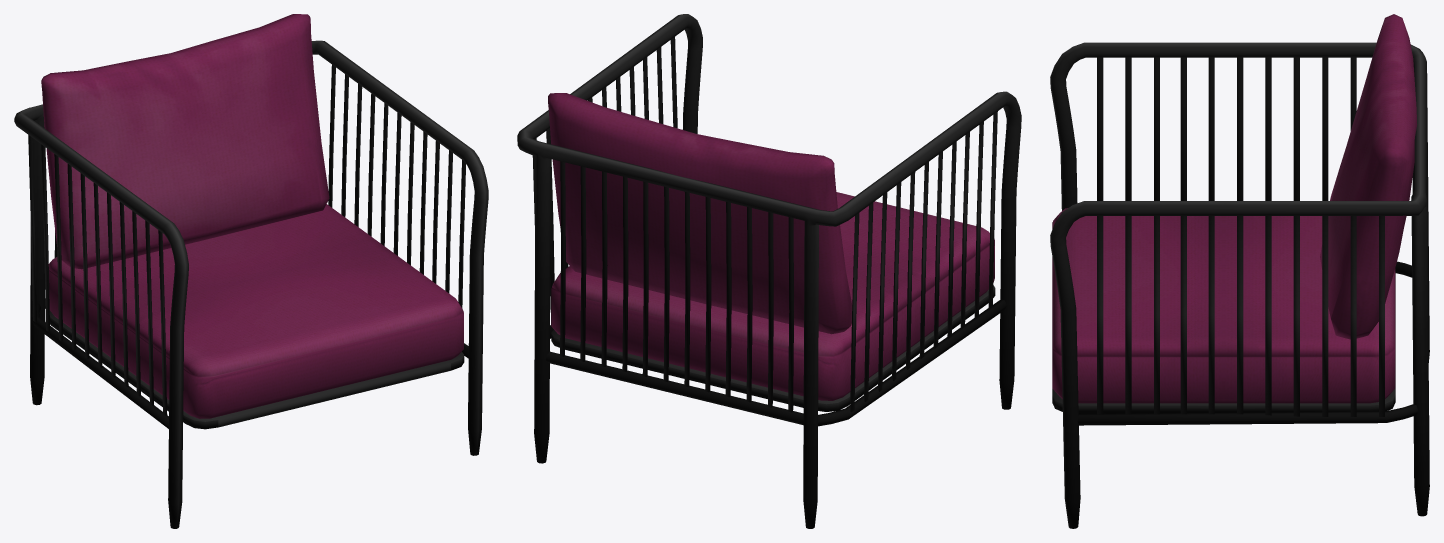
Rendered from BGR_Sofa_05.FBX.
The picture shows the model from 3 angles, left to right: view 1: azimuth 30°, elevation 25°; view 2: azimuth 150°, elevation 25°; view 3: azimuth 270°, elevation 25°; orthographic projection. The views are drawn at different scales.
Parts seen in each view (by area): view 1: LOD0; view 2: LOD0; view 3: LOD0.
Boxes of the visible parts, x1=… form: LOD0: x1=14, y1=14, x2=488, y2=528; LOD0: x1=517, y1=14, x2=1021, y2=528; LOD0: x1=1050, y1=14, x2=1429, y2=528.
Size of what is drawn, in the model's own units: 71.81 by 69.83 by 74.2.
